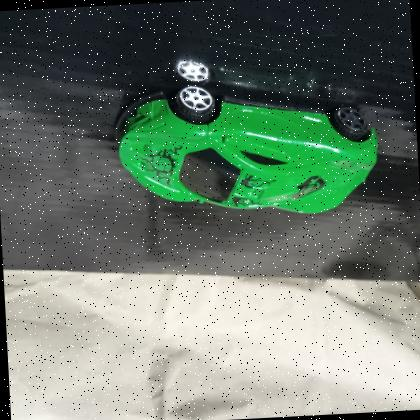Car: (115, 82, 378, 213)
